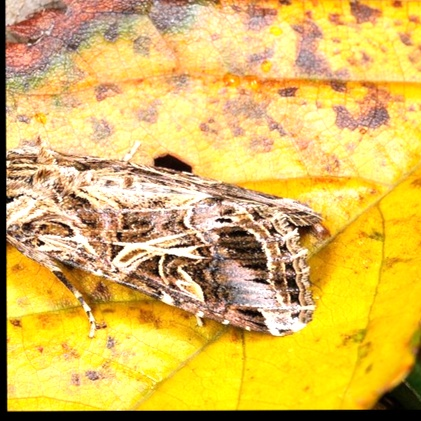Spodoptera litura: (6, 134, 327, 337)
